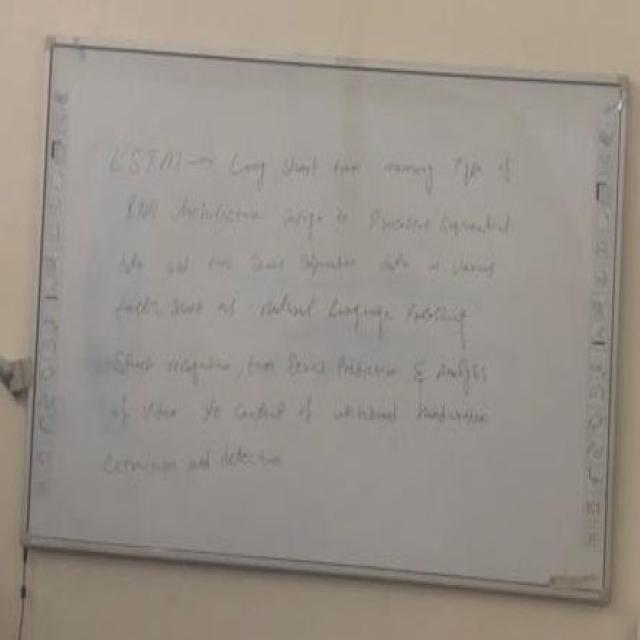White-board: (30, 44, 627, 595)
